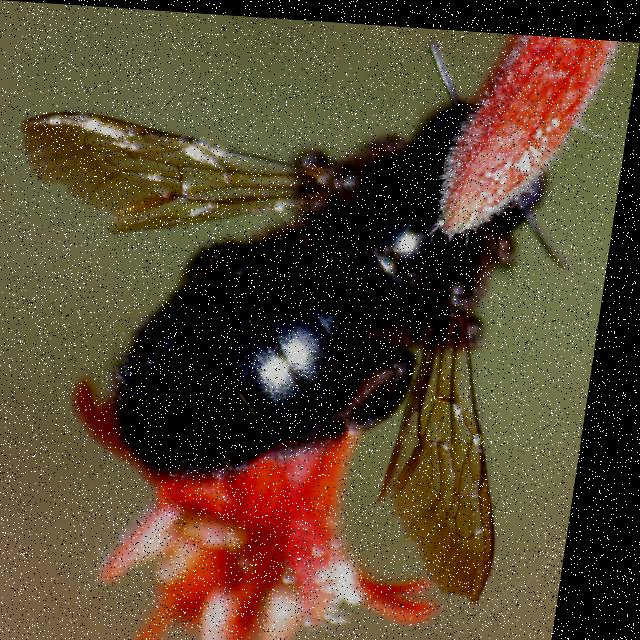Xylocopa: (0, 34, 618, 624)
